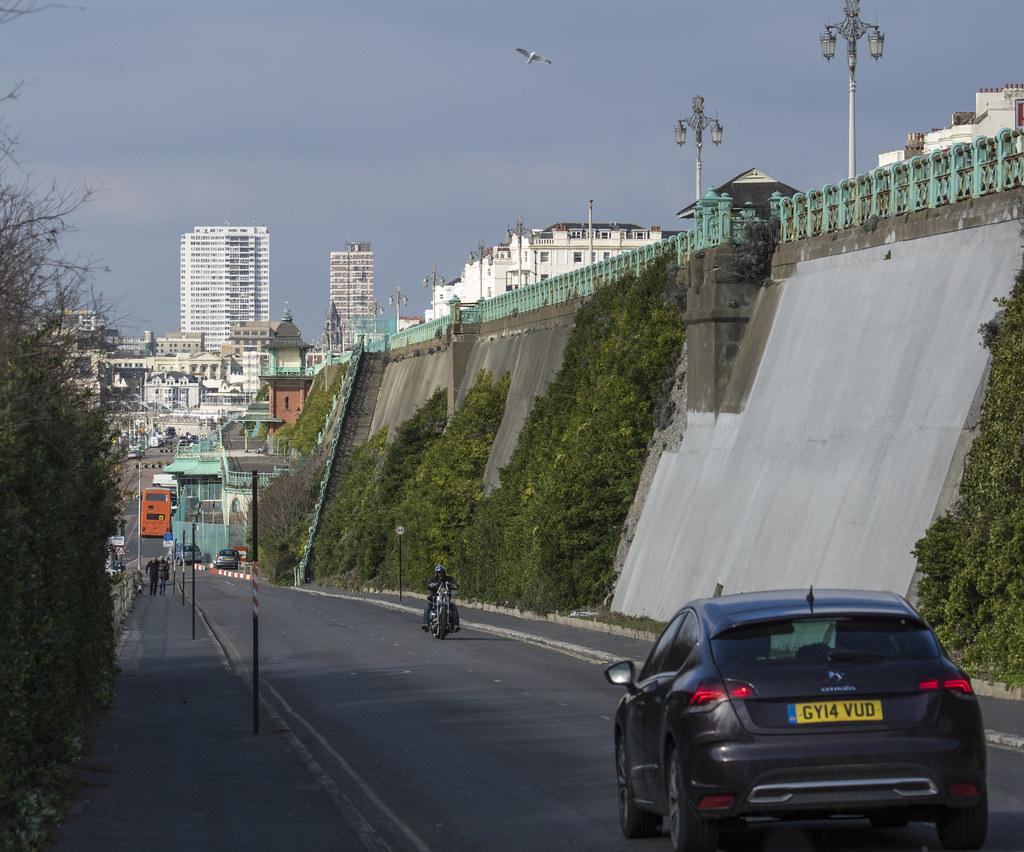car: (604, 586, 989, 852), (214, 549, 239, 570), (182, 545, 202, 565)
